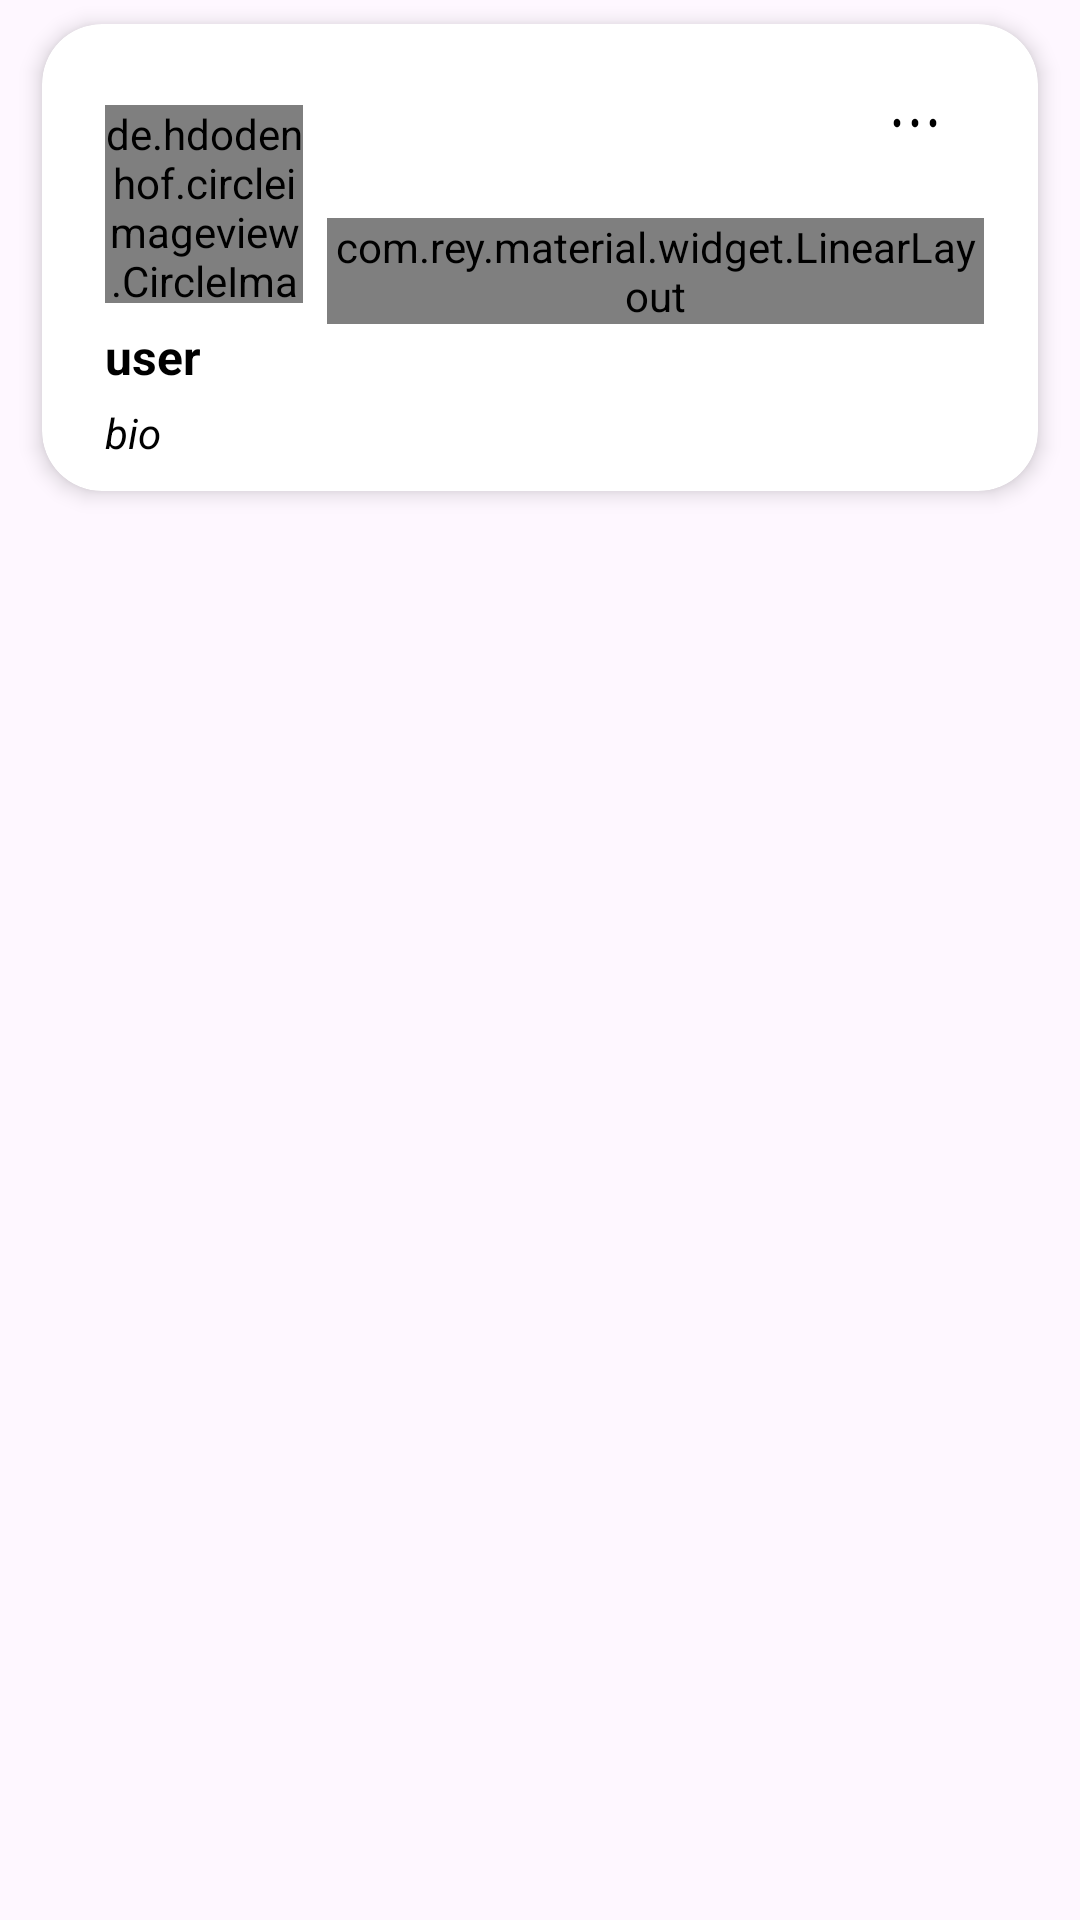

Icons on this 1080 × 1920 Android screen, each with the point to tap as (x,y):
dots: (915,123)
